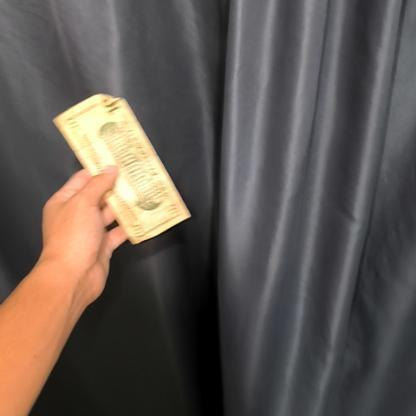ten-back: (52, 93, 192, 247)
